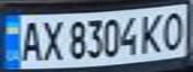0: (103, 16, 124, 58)
3: (84, 16, 106, 60)
4: (118, 12, 142, 56)
8: (66, 17, 87, 60)
A: (15, 18, 45, 63)
K: (136, 10, 169, 54)
O: (157, 8, 190, 52)
X: (36, 17, 66, 62)
